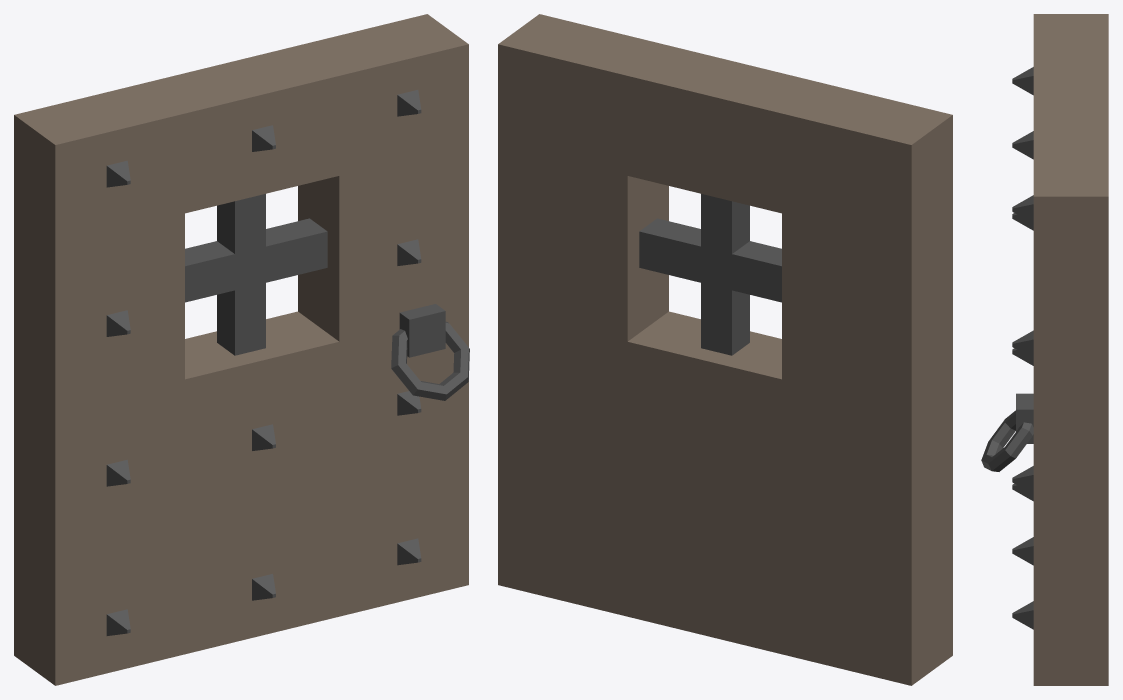
Rendered from Door_07.fbx.
3 views of the same model, side by side, from view 1: azimuth 30°, elevation 25°; view 2: azimuth 150°, elevation 25°; view 3: azimuth 270°, elevation 25° (orthographic). The views are drawn at different scales.
Visible parts, largest first — view 1: Door_07; view 2: Door_07; view 3: Door_07.
Part boxes in pixels (x1=…): Door_07: x1=14, y1=14, x2=469, y2=685; Door_07: x1=498, y1=14, x2=952, y2=685; Door_07: x1=981, y1=14, x2=1108, y2=685.
Bounding box in the file's own units: 1.6 × 2 × 0.4718.
